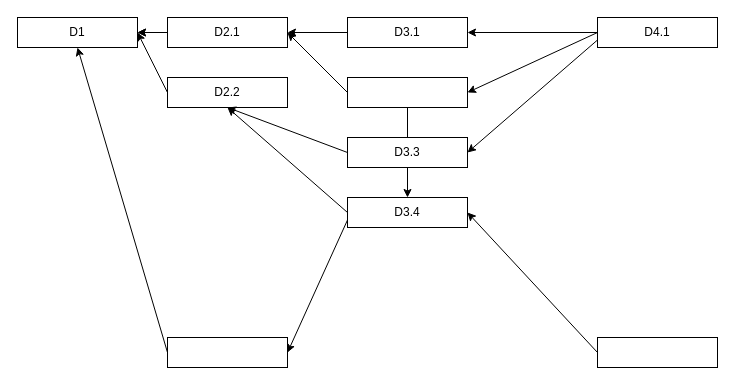
Image size: 735x385. Some labels were removed from this diagram. Each missing label, with the box of its shape:
D2.3: (166, 336, 288, 368)
D3.2: (346, 76, 468, 108)
D4.2: (596, 336, 718, 368)
